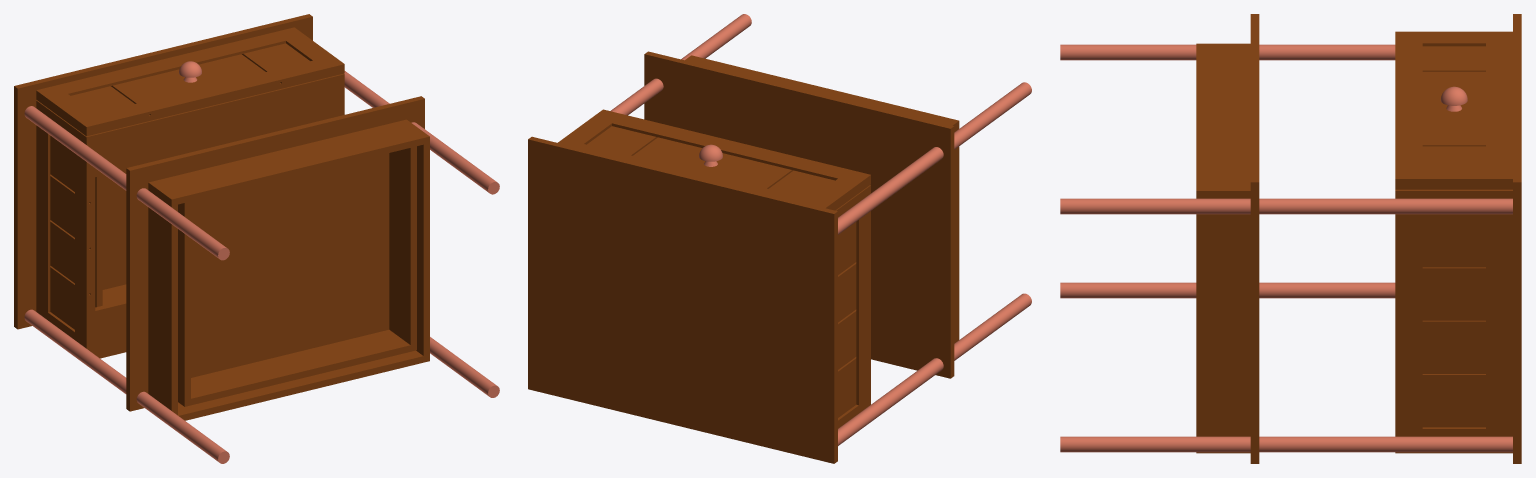
The model's file is hidden-base-nightstand.glb.
3 views of the same model, side by side, from view 1: azimuth 30°, elevation 25°; view 2: azimuth 150°, elevation 25°; view 3: azimuth 270°, elevation 25° (orthographic). The views are drawn at different scales.
Parts seen in each view (by area): view 1: SOLID (×26); view 2: SOLID (×14); view 3: SOLID (×19).
Part boxes in pixels (x1,y1,x2,y2): SOLID (×26): [14, 14, 499, 463]; SOLID (×14): [528, 14, 1031, 463]; SOLID (×19): [1060, 14, 1521, 463].
Size of the model in its own units: 0.5588 by 0.4516 by 0.6469.
